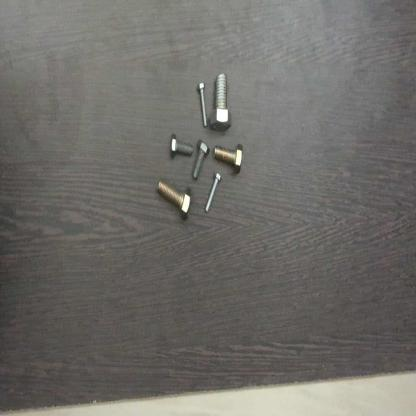Bolts: (156, 180, 194, 224), (209, 70, 235, 133), (213, 139, 250, 170), (167, 130, 194, 163), (202, 172, 224, 212), (195, 78, 208, 128)
